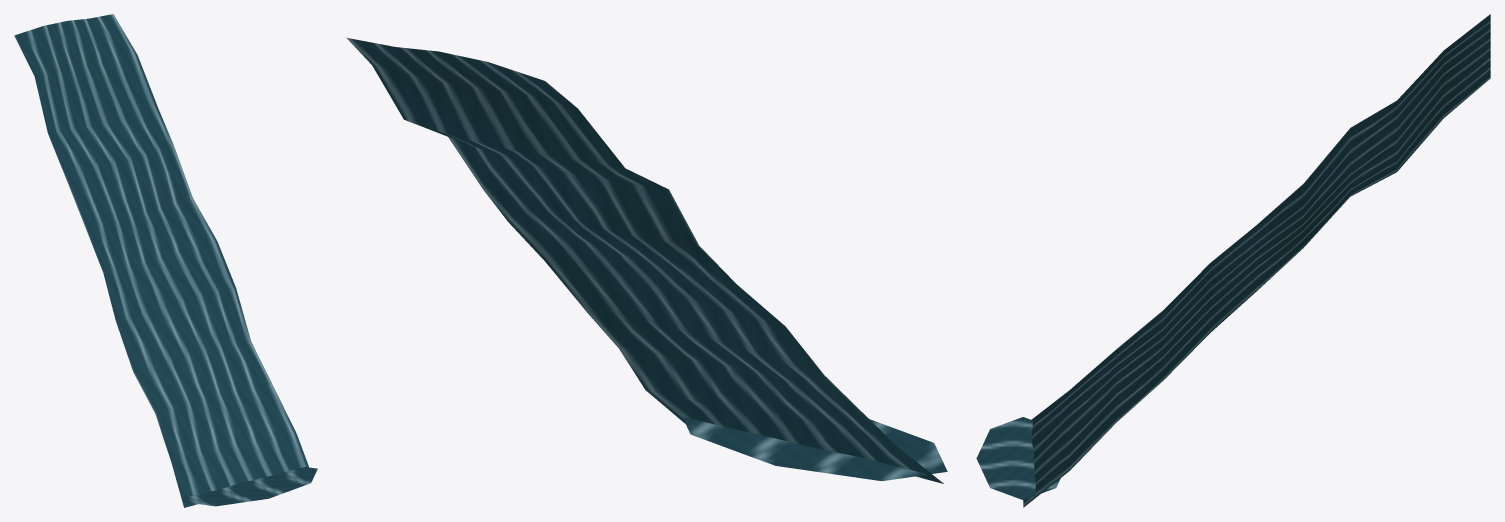
File: cascade-wide-lod1.glb
The picture shows the model from 3 angles, left to right: view 1: azimuth 30°, elevation 25°; view 2: azimuth 150°, elevation 25°; view 3: azimuth 270°, elevation 25°; orthographic projection. The views are drawn at different scales.
Size of the model in its own units: 0.4224 by 1.01 by 1.1.
1 material, 1 textured.
